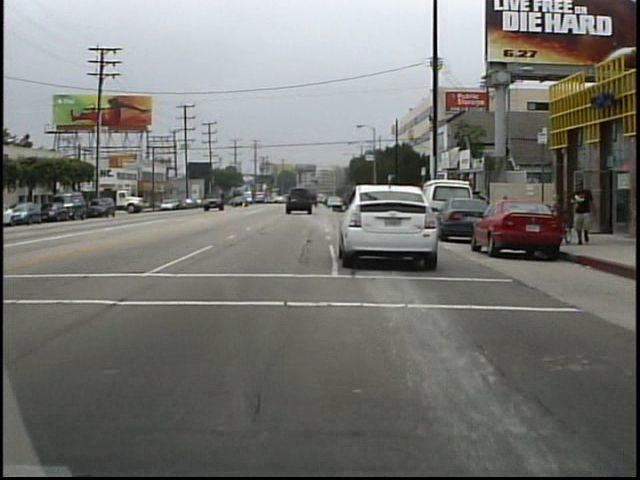person: (568, 175, 596, 250)
